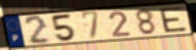2: (24, 14, 54, 46), (108, 10, 132, 38)
5: (50, 12, 78, 43)
7: (80, 9, 101, 42)
8: (135, 8, 159, 36)
E: (158, 6, 189, 34)
